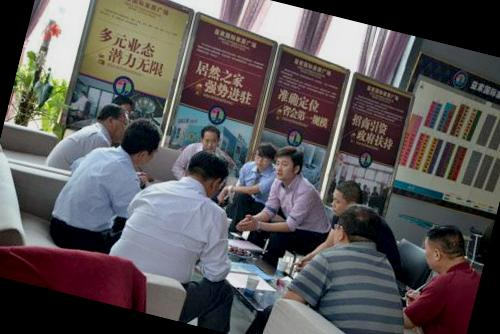no_helmet: (326, 198, 392, 258), (416, 218, 471, 280), (176, 144, 234, 201), (115, 114, 167, 172), (92, 98, 132, 144), (327, 176, 366, 220), (271, 146, 305, 185), (194, 122, 228, 157), (250, 140, 279, 173)
